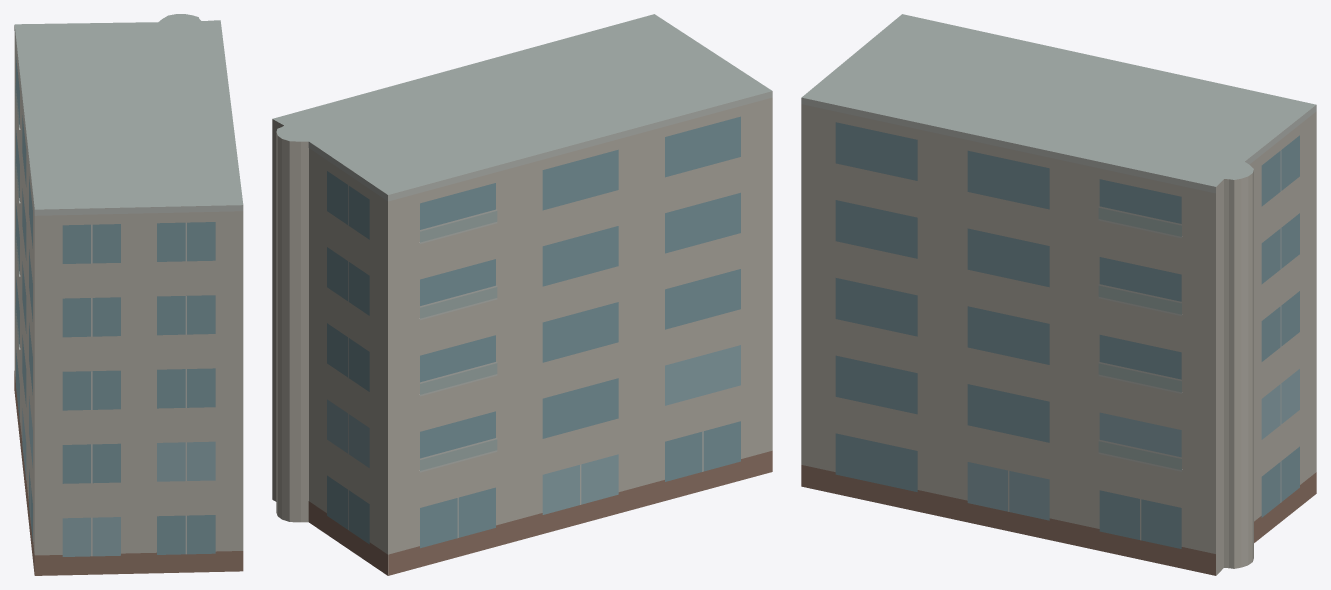
The model's file is survey-upis-32967116.glb.
3 views of the same model, side by side, from view 1: azimuth 30°, elevation 25°; view 2: azimuth 150°, elevation 25°; view 3: azimuth 270°, elevation 25° (orthographic). The views are drawn at different scales.
Visible parts, largest first — view 1: survey-upis-32967116.tmp; view 2: survey-upis-32967116.tmp; view 3: survey-upis-32967116.tmp.
Part boxes in pixels (x1=…): survey-upis-32967116.tmp: x1=14, y1=14, x2=243, y2=575; survey-upis-32967116.tmp: x1=272, y1=14, x2=772, y2=575; survey-upis-32967116.tmp: x1=801, y1=14, x2=1316, y2=575.
Bounding box in the file's own units: 13.74 × 14.4 × 17.29.
